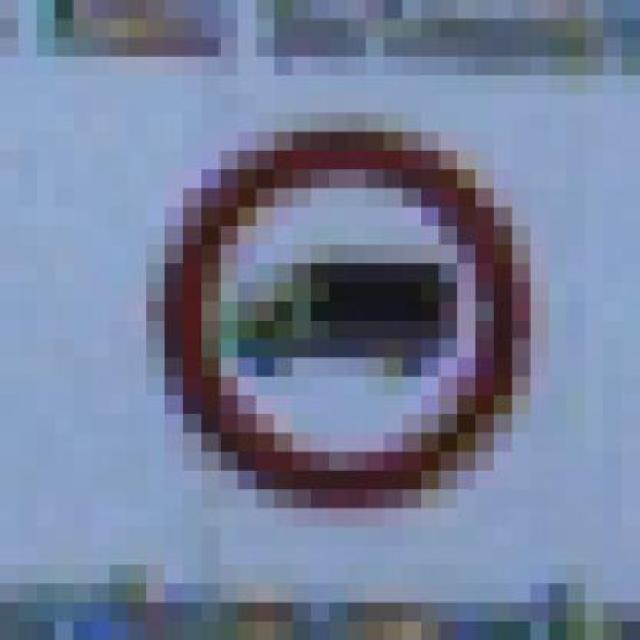Truck traffic is prohibited: (92, 94, 586, 508)
